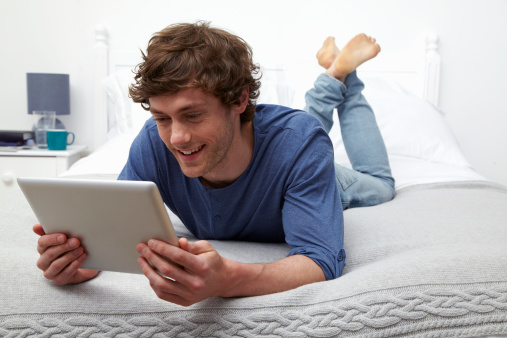deitado: (9, 40, 360, 322)
